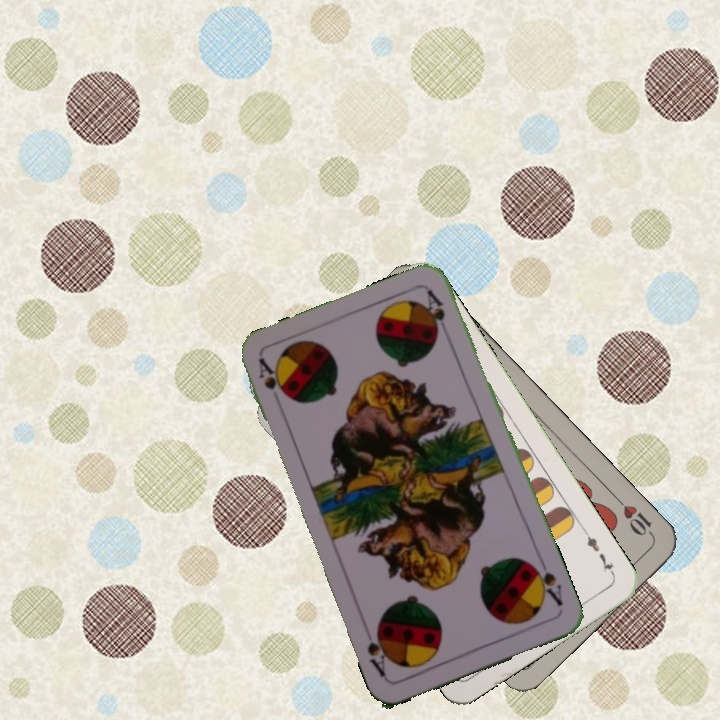E7: (580, 526, 618, 578)
H10: (611, 493, 657, 540)
SA: (526, 555, 566, 609), (254, 354, 289, 400)
